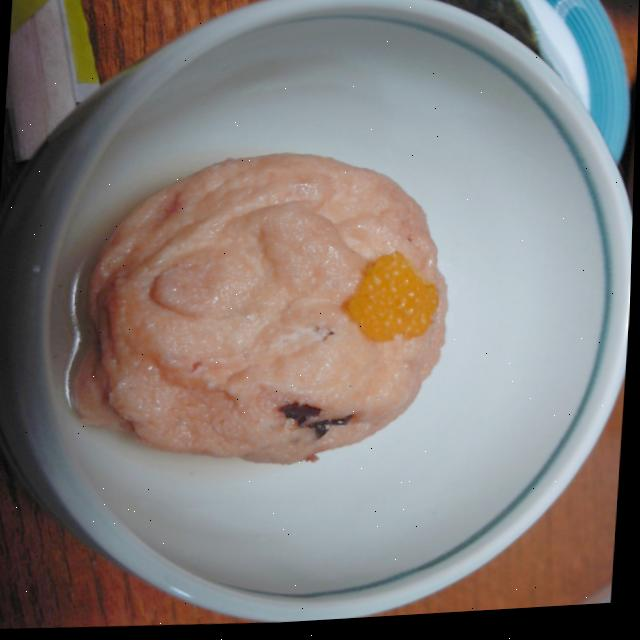熟制海鲜: (49, 128, 500, 499)
